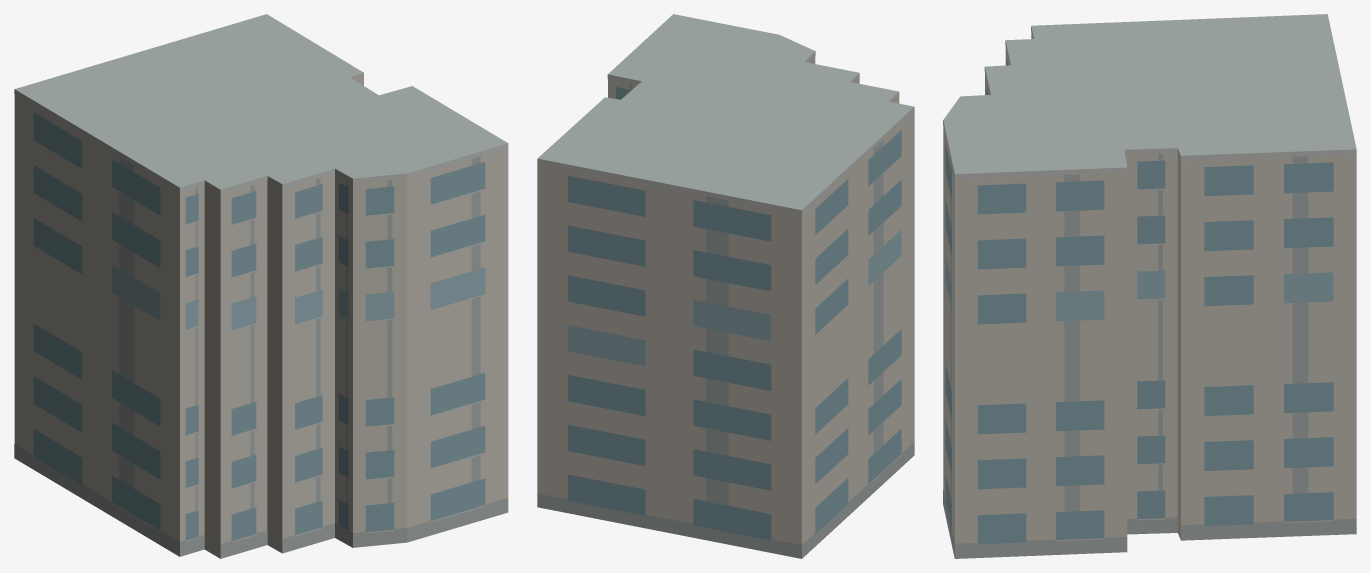
File: survey-upis-33047592.glb
3 views of the same model, side by side, from view 1: azimuth 30°, elevation 25°; view 2: azimuth 150°, elevation 25°; view 3: azimuth 270°, elevation 25° (orthographic). The views are drawn at different scales.
Parts seen in each view (by area): view 1: survey-upis-33047592.tmp; view 2: survey-upis-33047592.tmp; view 3: survey-upis-33047592.tmp.
Part boxes in pixels (x1,y1,x2,y2): survey-upis-33047592.tmp: (14, 14, 508, 558); survey-upis-33047592.tmp: (537, 14, 914, 558); survey-upis-33047592.tmp: (943, 14, 1356, 558).
Bounding box in the file's own units: 16.44 × 18.4 × 17.93.
